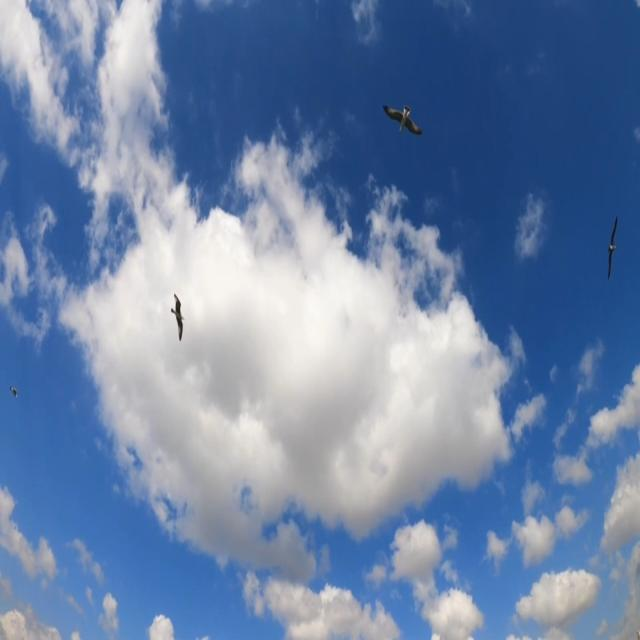bird: (374, 70, 439, 150), (3, 374, 34, 429), (606, 208, 626, 293), (167, 277, 191, 342)
